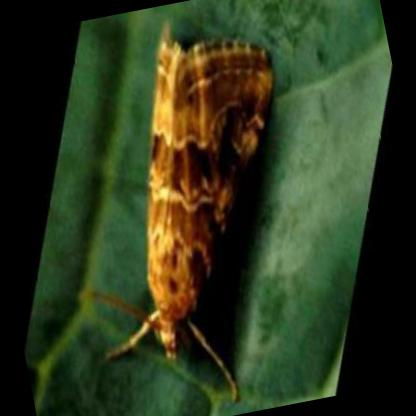Leaf Webber: (101, 21, 277, 410)
